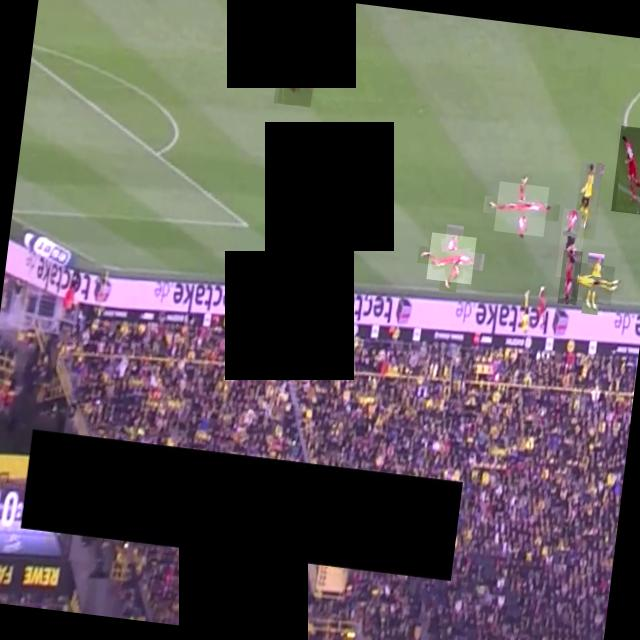referee: (554, 207, 586, 278)
soccer-player: (272, 0, 322, 106), (332, 132, 372, 222), (492, 180, 548, 236), (609, 124, 640, 213), (425, 231, 475, 283), (571, 160, 602, 238), (570, 260, 614, 304), (556, 248, 581, 304)
